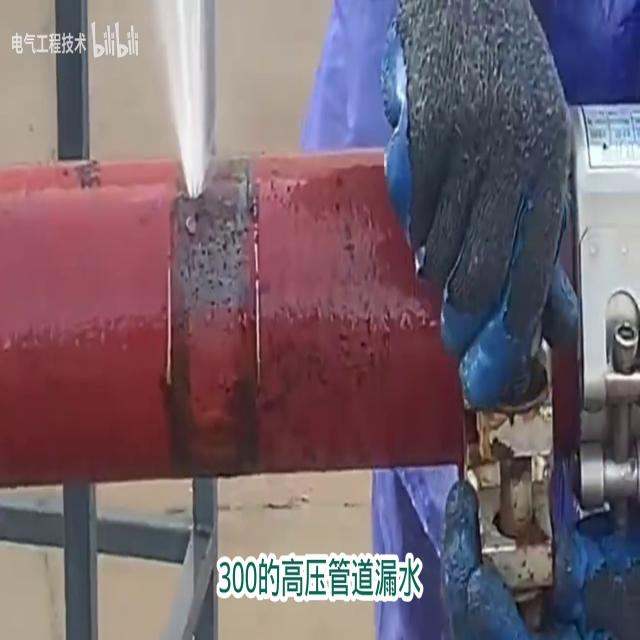leak: (155, 1, 209, 203)
